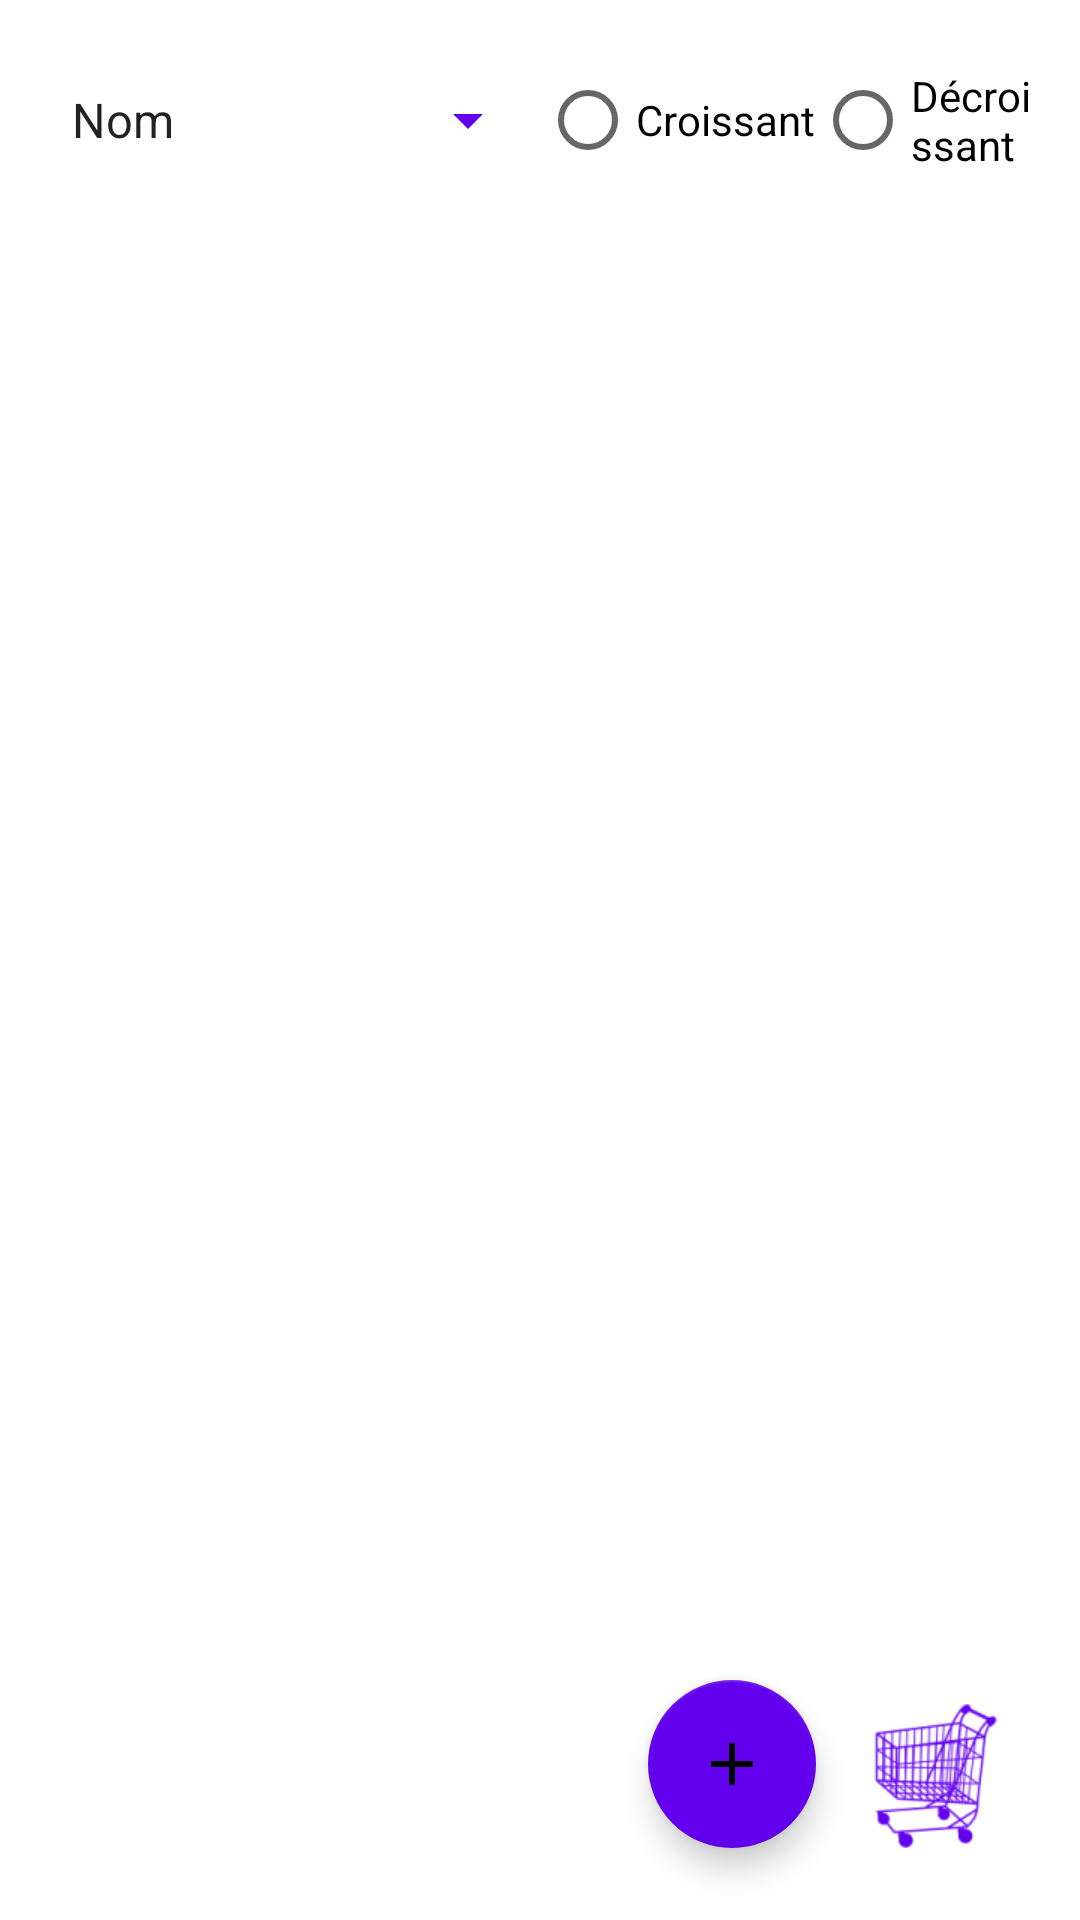

Locate icon controls on the screen. Image size 1080px x 1920px, boxes as [left=x1, top=y1, right=x2, bottom=y2].
Ajouter un produit: [left=648, top=1680, right=816, bottom=1848]
Panier: [left=874, top=1704, right=998, bottom=1848]
